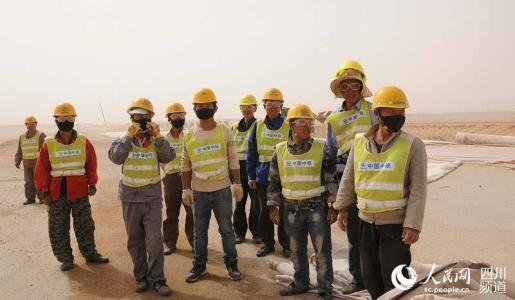boots: (279, 281, 309, 295), (185, 265, 206, 282), (224, 260, 240, 280), (153, 281, 170, 296), (341, 283, 363, 294), (256, 245, 274, 257), (85, 253, 108, 262), (135, 279, 148, 291), (60, 259, 72, 271), (315, 292, 331, 300), (163, 244, 175, 254), (252, 235, 262, 244), (282, 247, 291, 256), (235, 234, 244, 243), (23, 198, 35, 204)
gloves: (230, 183, 244, 202), (268, 205, 281, 224), (181, 189, 193, 207), (127, 122, 140, 138), (327, 205, 337, 224), (88, 184, 97, 196)
hard-hat: (329, 60, 367, 97), (370, 85, 409, 110), (284, 103, 314, 121), (126, 97, 154, 115), (191, 88, 216, 103), (53, 103, 77, 117), (165, 101, 186, 117), (262, 88, 283, 102), (238, 93, 257, 105), (24, 115, 37, 124)
person: (333, 85, 428, 299), (266, 103, 339, 300), (319, 60, 379, 294), (107, 97, 175, 295), (32, 102, 110, 270), (180, 87, 243, 283), (246, 88, 292, 258), (161, 102, 194, 256), (230, 93, 263, 243), (13, 115, 46, 205)
vest: (350, 130, 413, 217), (278, 144, 323, 204), (183, 126, 229, 177), (331, 100, 370, 157), (115, 141, 158, 192), (44, 133, 86, 181), (161, 131, 189, 176), (257, 123, 286, 160), (18, 132, 38, 160)
